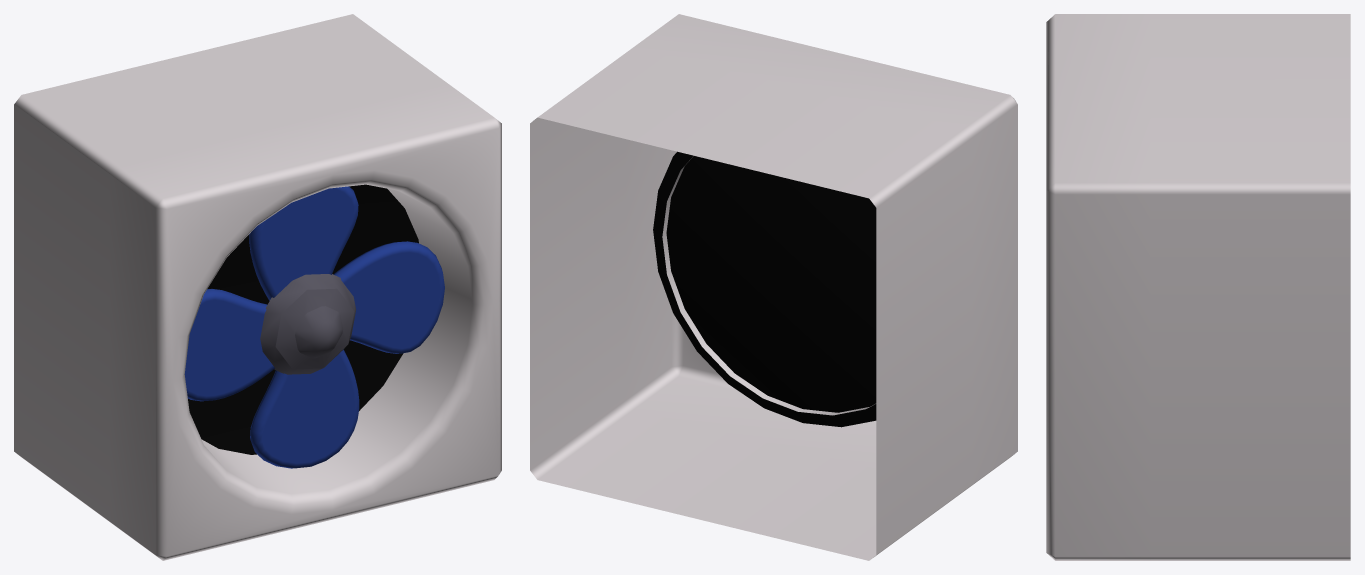
File: SM_Ventilation_03.fbx
The picture shows the model from 3 angles, left to right: view 1: azimuth 30°, elevation 25°; view 2: azimuth 150°, elevation 25°; view 3: azimuth 270°, elevation 25°; orthographic projection. The views are drawn at different scales.
Parts seen in each view (by area): view 1: SM_Vent_03_Frame, SM_Vent_03_Blades, SM_Vent_03_Void, SM_Vent_03_Knob; view 2: SM_Vent_03_Frame, SM_Vent_03_Void; view 3: SM_Vent_03_Frame.
Boxes of the visible parts, x1,y1,x2,y2 form: SM_Vent_03_Frame: (14,14,501,560); SM_Vent_03_Blades: (184,186,444,468); SM_Vent_03_Void: (188,184,418,454); SM_Vent_03_Knob: (260,274,356,374); SM_Vent_03_Frame: (530,14,1017,560); SM_Vent_03_Void: (653,151,876,427); SM_Vent_03_Frame: (1046,14,1350,560).
Size of the model in its own units: 2 by 2 by 1.46.
